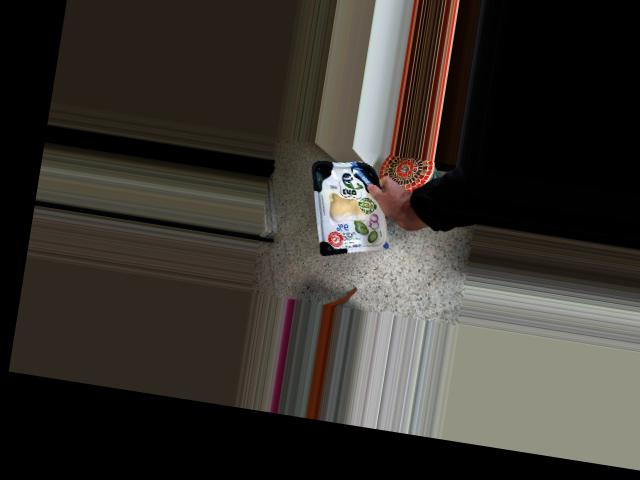cheese: (299, 153, 401, 260)
